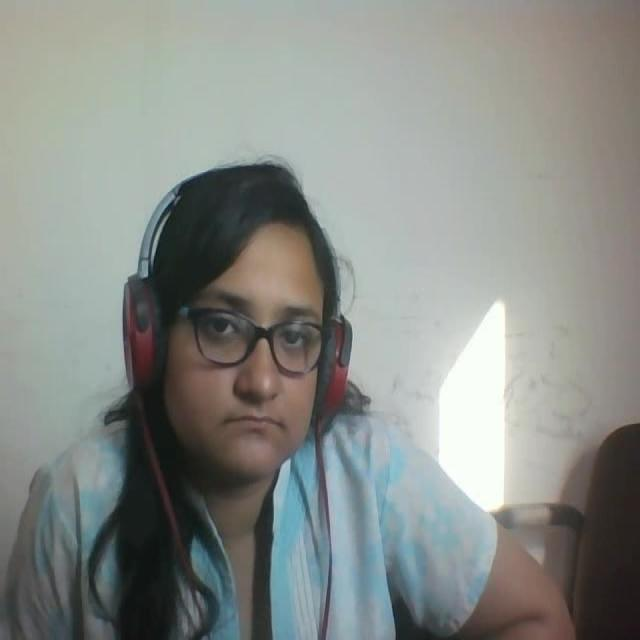Engaged: (114, 146, 377, 483)
